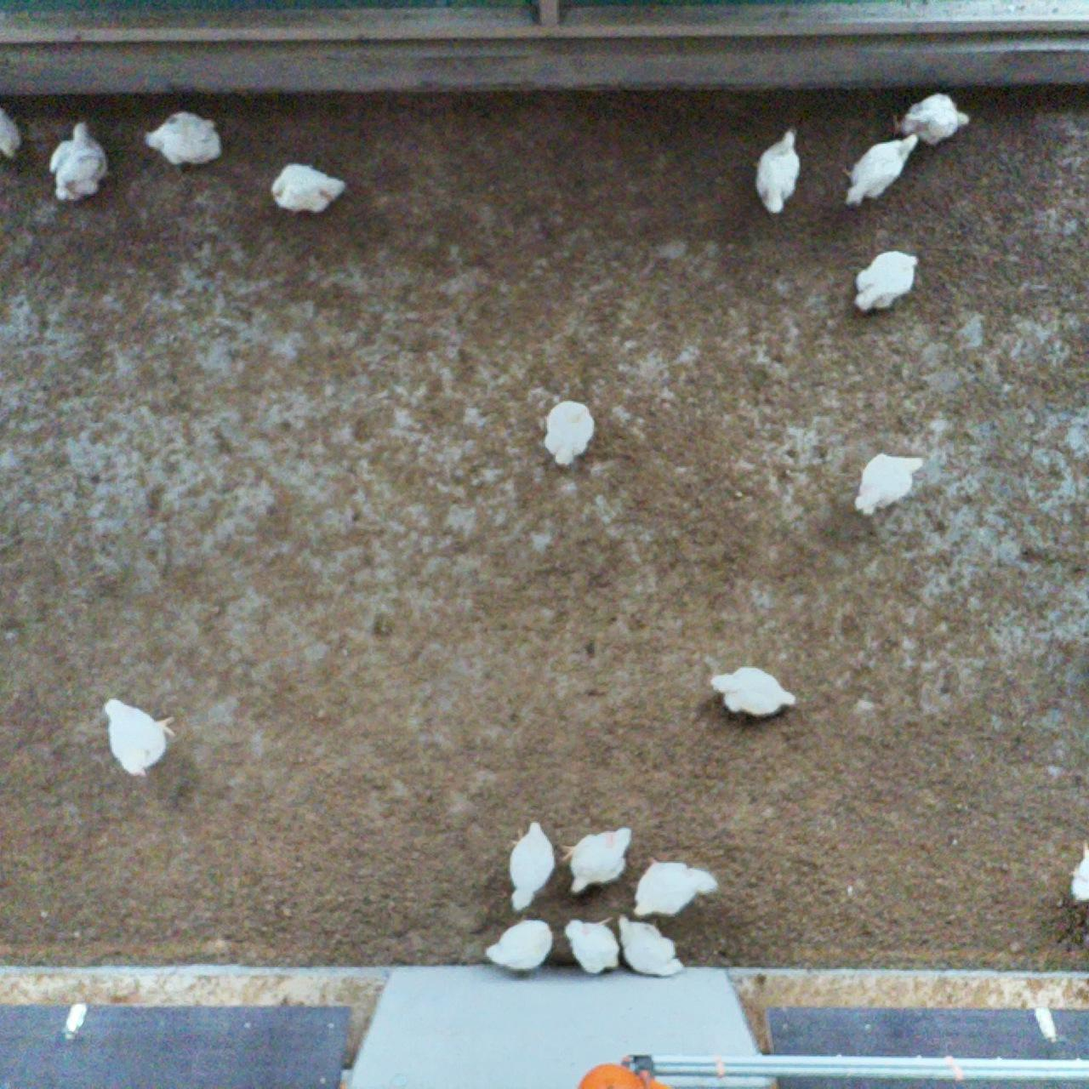chicken: (96, 694, 178, 778), (842, 128, 922, 210), (48, 116, 115, 209), (630, 854, 719, 921), (851, 451, 929, 519), (706, 663, 799, 720), (505, 818, 559, 914), (562, 824, 633, 896), (140, 109, 225, 168), (264, 160, 349, 216), (852, 247, 921, 314), (889, 92, 972, 147), (614, 915, 685, 978), (539, 396, 600, 469), (753, 126, 802, 215), (484, 918, 554, 972), (562, 918, 623, 978), (1064, 833, 1089, 904), (0, 104, 24, 161)
